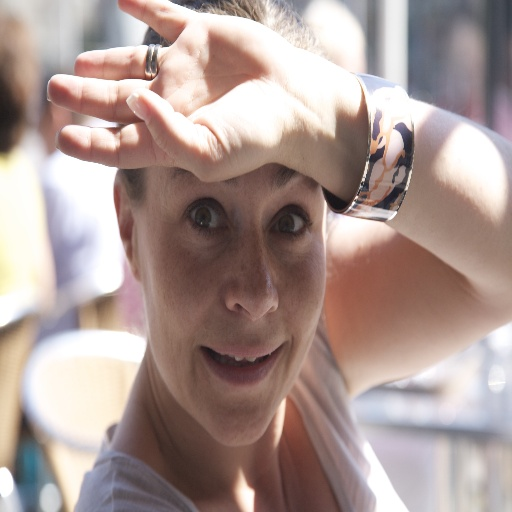hand: (49, 11, 373, 203)
